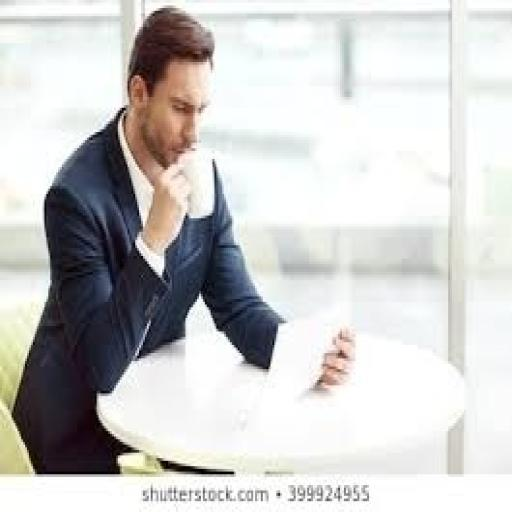drinking: (10, 2, 356, 472)
